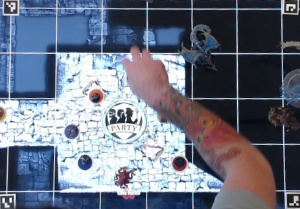blue: (74, 153, 99, 174)
orange: (86, 87, 108, 105)
red: (169, 152, 189, 173)
violet: (60, 122, 80, 144)
yellow: (0, 102, 8, 123)
